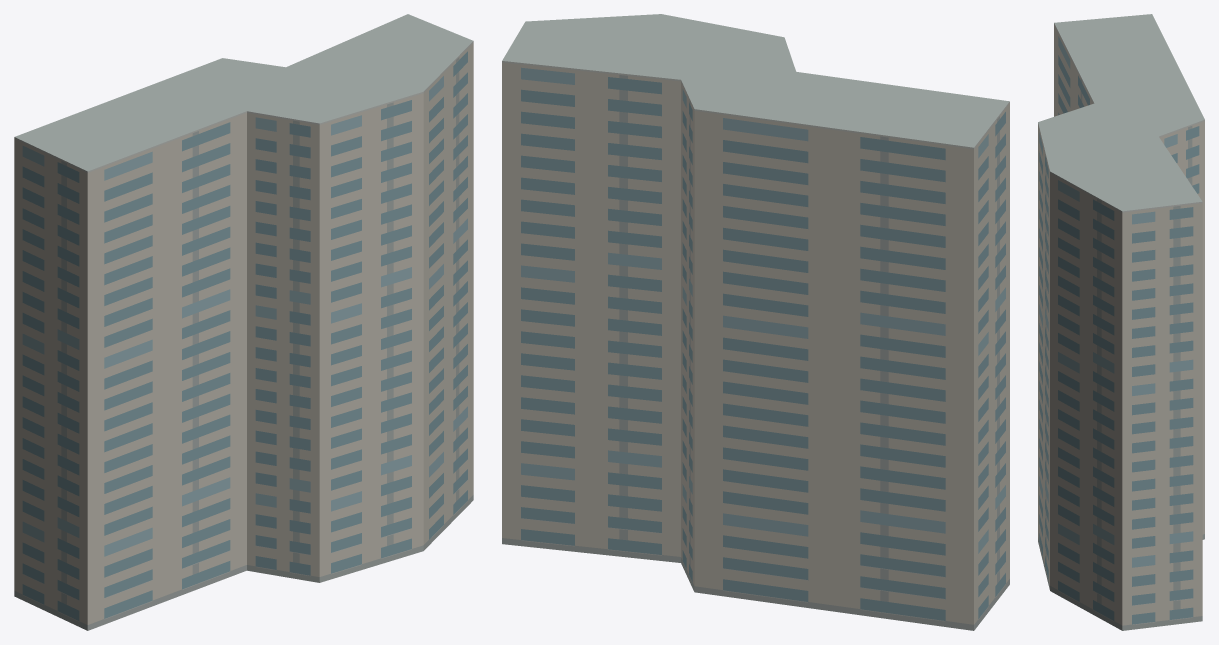
Rendered from residential-823e6dee-9475-453b-ae45-1c8af4116b42.glb.
3 renders of one model, left to right at view 1: azimuth 30°, elevation 25°; view 2: azimuth 150°, elevation 25°; view 3: azimuth 270°, elevation 25°, orthographic. The views are drawn at different scales.
Visible parts, largest first — view 1: residential-823e6dee-9475-453b-ae45-1c8af4116b42.tmp; view 2: residential-823e6dee-9475-453b-ae45-1c8af4116b42.tmp; view 3: residential-823e6dee-9475-453b-ae45-1c8af4116b42.tmp.
Boxes of the visible parts, left/top/right/bottom form: residential-823e6dee-9475-453b-ae45-1c8af4116b42.tmp: left=14, top=14, right=473, bottom=630; residential-823e6dee-9475-453b-ae45-1c8af4116b42.tmp: left=502, top=14, right=1009, bottom=630; residential-823e6dee-9475-453b-ae45-1c8af4116b42.tmp: left=1038, top=14, right=1204, bottom=630.
Bounding box in the file's own units: 72.64 × 72 × 25.96.
